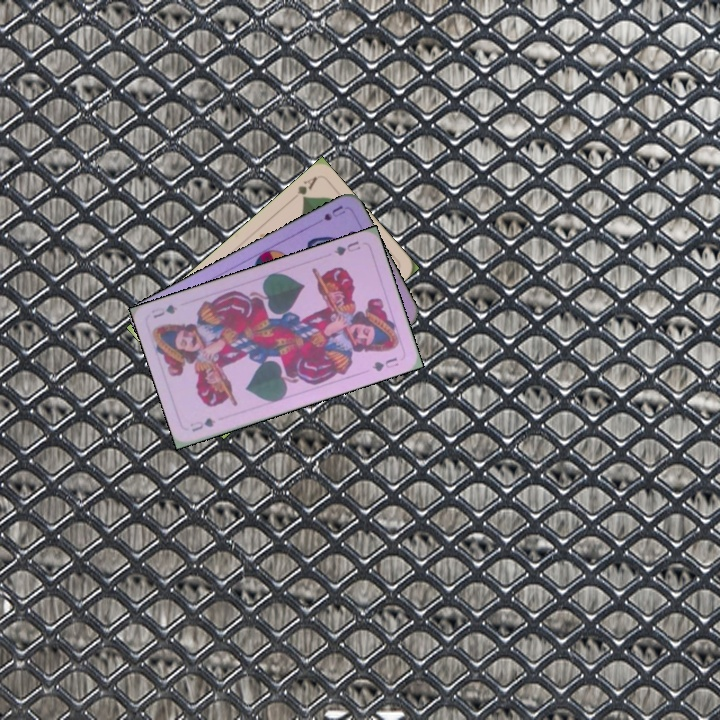GA: (293, 172, 319, 203)
GU: (330, 237, 363, 258), (186, 414, 218, 434)
SU: (309, 201, 348, 228)
